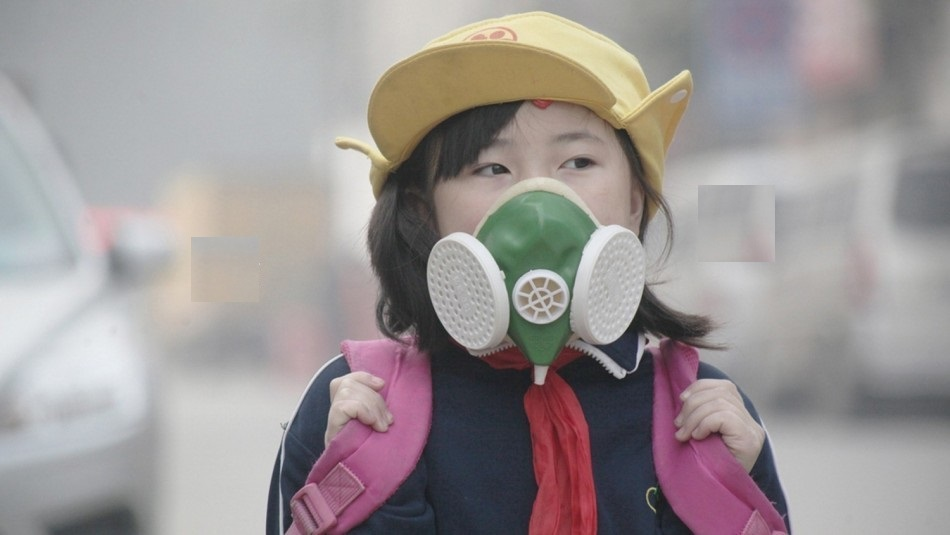face_mask: (437, 96, 634, 332)
